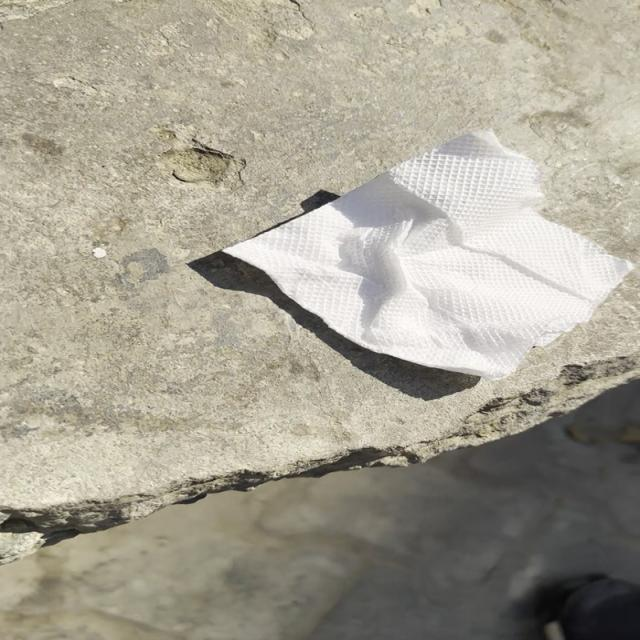tissue: (220, 126, 638, 386)
